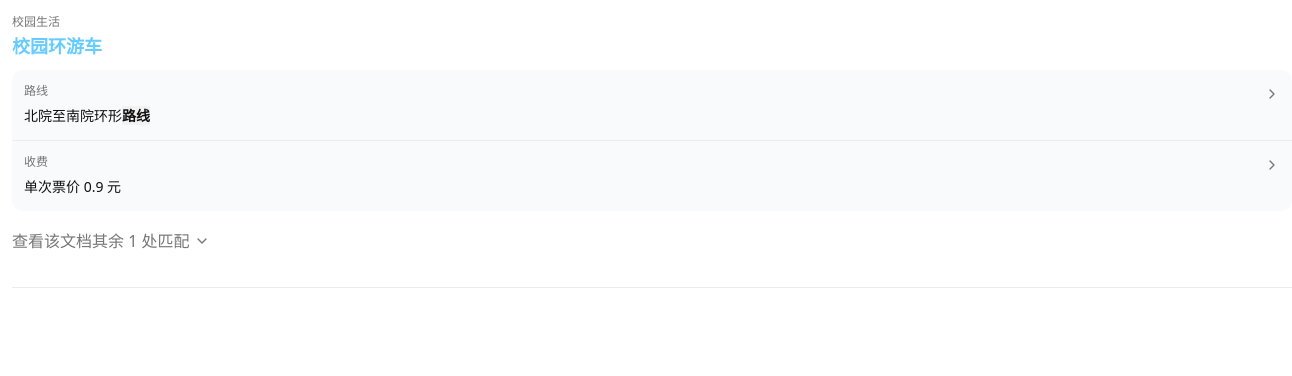
Test: search component interactions › renders SearchResultItem with multiple snippets and toggles fold/unfold
Expected: the text "北院至南院环形" is shown, x1=24 y1=106 x2=122 y2=125
Expected: the text "单次票价 0.9 元" is shown, x1=24 y1=177 x2=121 y2=196
Click the button "查看该文档其余 1 处匹配". click: [111, 241]
box: x1=12 y1=219 x2=210 y2=263
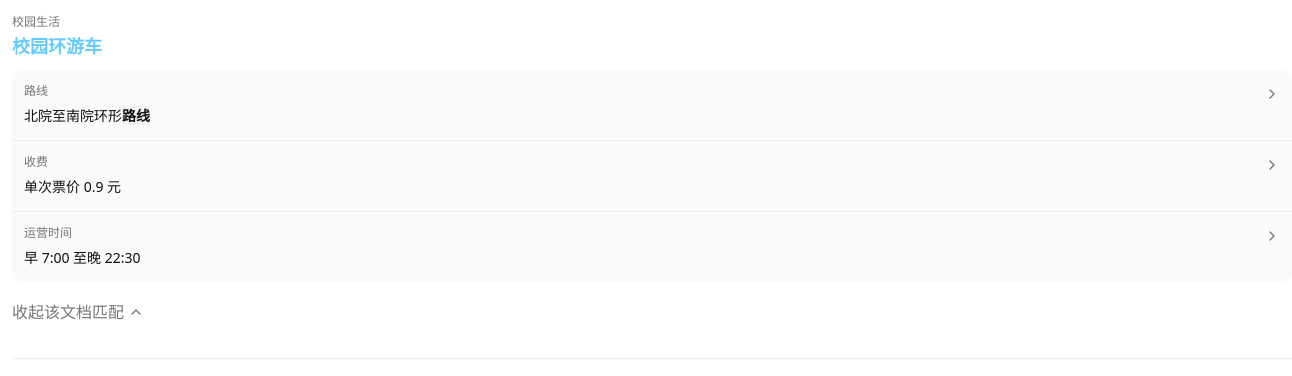
Expected: the text "早 7:00 至晚 22:30" is shown, x1=24 y1=248 x2=140 y2=267
Expected: the button "收起该文档匹配" is shown
Click the button "收起该文档匹配". click: [78, 312]
box: x1=12 y1=290 x2=144 y2=334
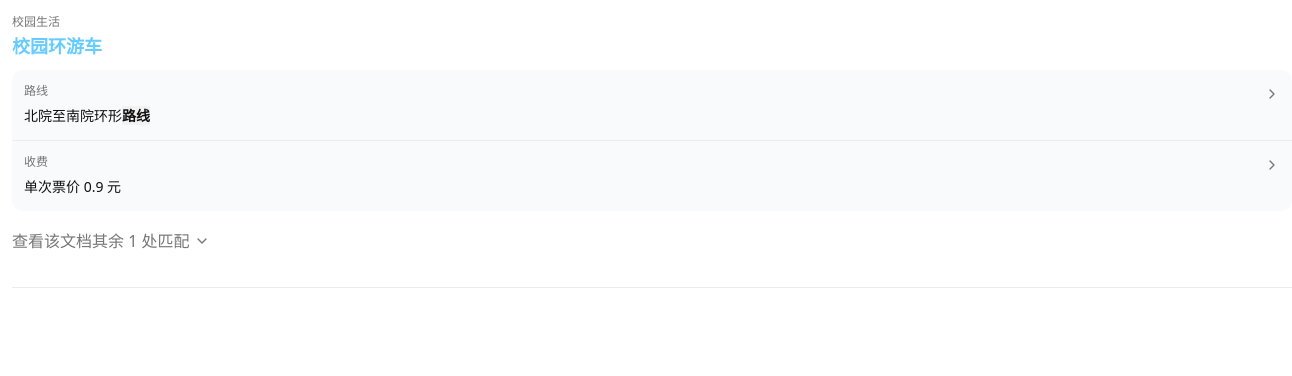
Expected: the link "早 7:00 至晚 22:30" is gone
